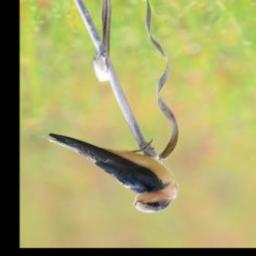Swallow: (34, 129, 180, 218)
